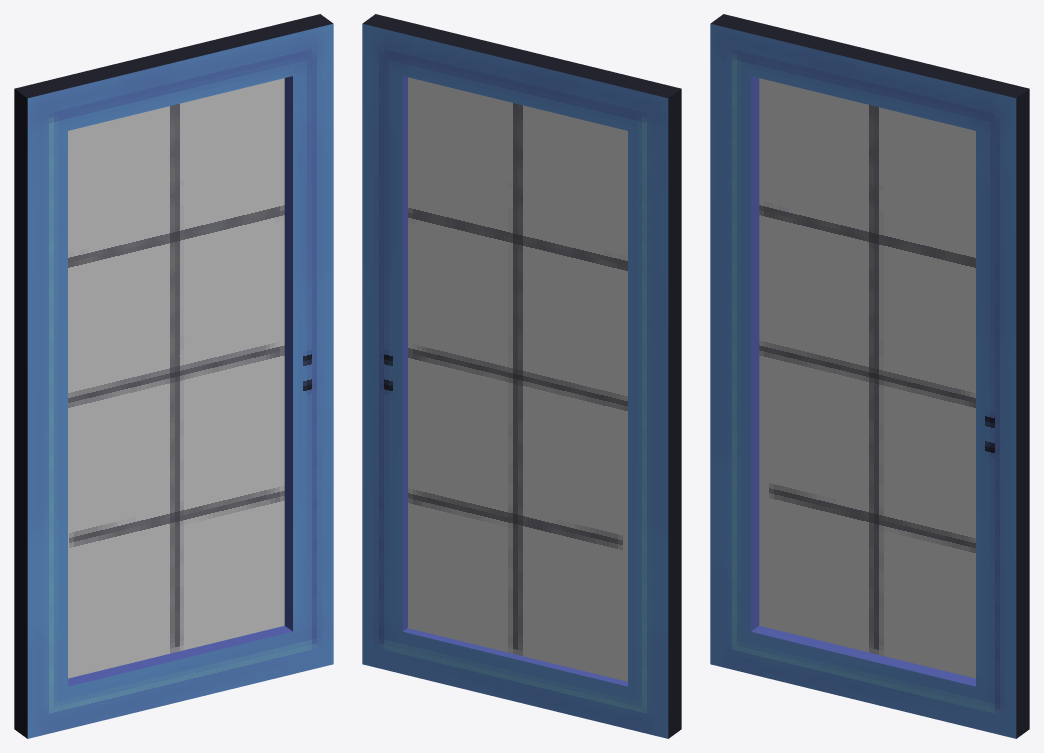
The model's file is window_door.gltf.
The picture shows the model from 3 angles, left to right: view 1: azimuth 30°, elevation 25°; view 2: azimuth 150°, elevation 25°; view 3: azimuth 330°, elevation 25°; orthographic projection.
Visible parts, largest first — view 1: Window, Base; view 2: Window, Base; view 3: Window, Base.
Part boxes in pixels (<box>): Window: <box>68,78,284,678</box>; Base: <box>14,14,333,738</box>; Window: <box>408,77,627,681</box>; Base: <box>362,14,681,738</box>; Window: <box>759,78,975,678</box>; Base: <box>710,14,1029,738</box>.
Bounding box in the file's own units: 1 × 2 × 0.075.
1 material, 1 textured.
